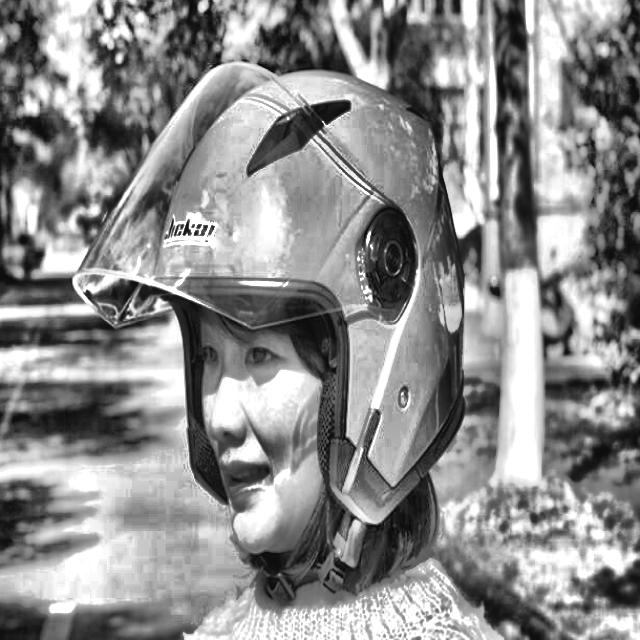Helmet: (66, 47, 472, 619)
